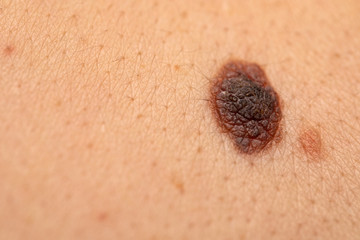melanoma: (205, 55, 305, 159)
